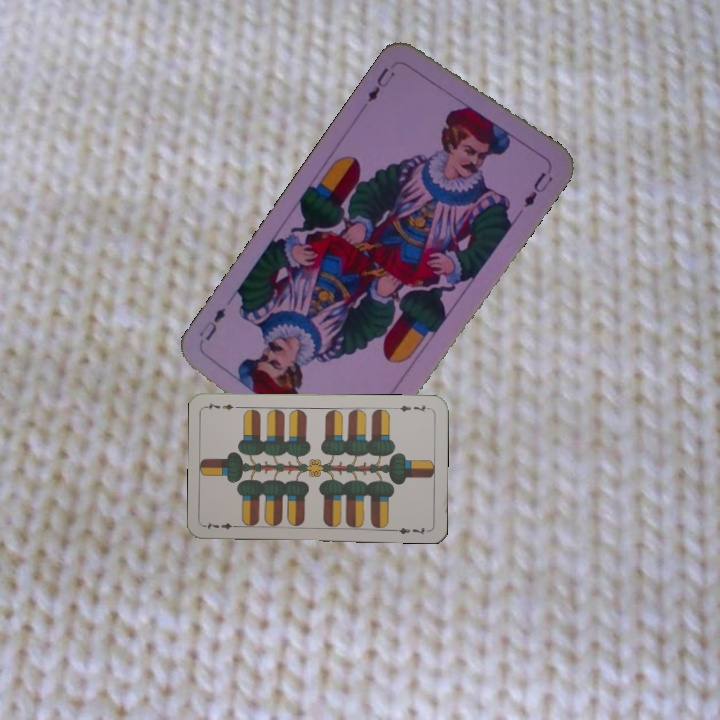E7: (392, 401, 432, 415), (202, 518, 242, 532)
EU: (363, 63, 398, 105)
